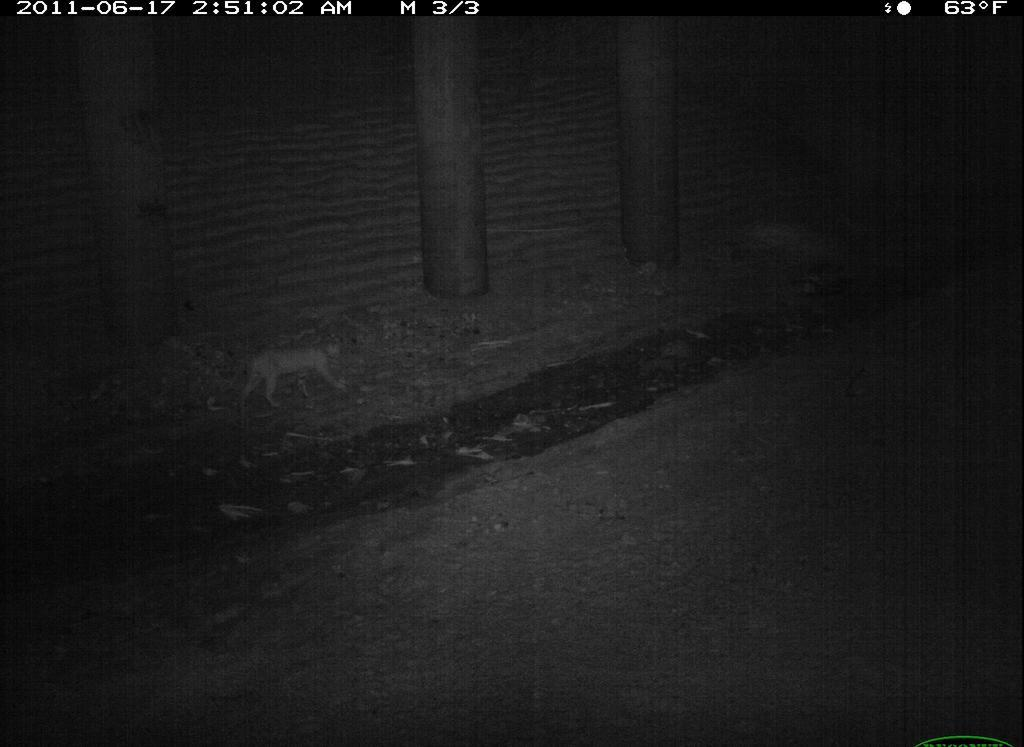bobcat: (459, 661, 709, 747)
